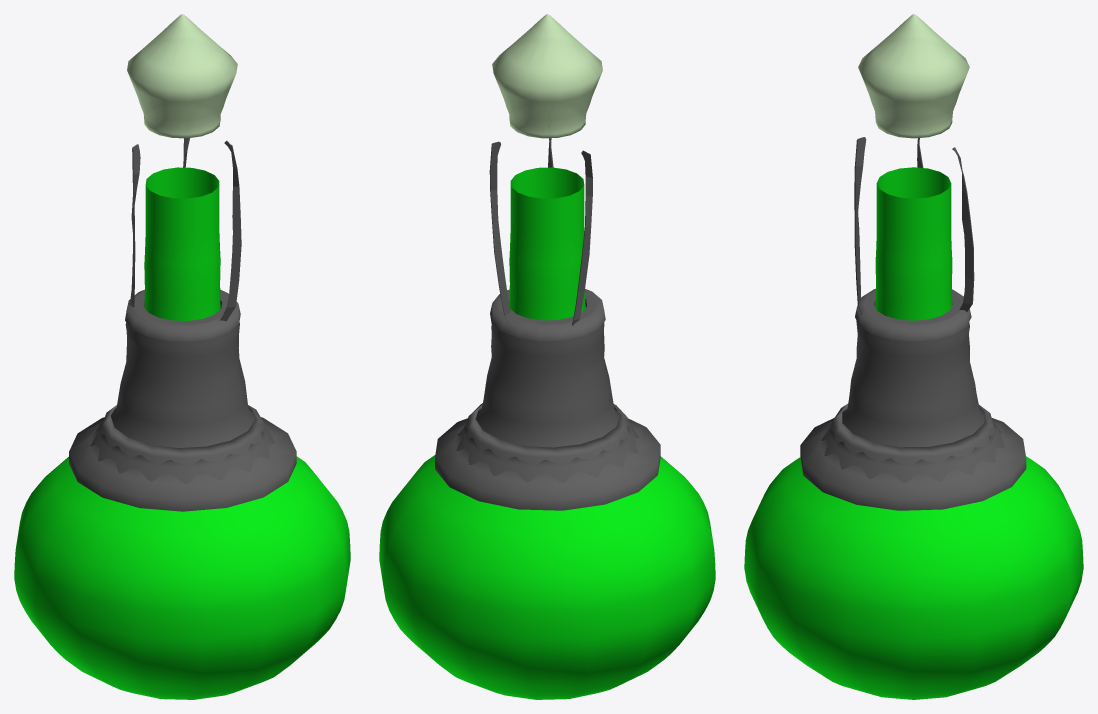
The model's file is potion of leaping.glb.
3 renders of one model, left to right at view 1: azimuth 30°, elevation 25°; view 2: azimuth 150°, elevation 25°; view 3: azimuth 270°, elevation 25°, orthographic.
Visible parts, largest first — view 1: Liquido, RecDeco, Tapa2, DecoFrasc, DecoFrasc.001; view 2: Liquido, RecDeco, Tapa2, DecoFrasc.002, DecoFrasc.001; view 3: Liquido, RecDeco, Tapa2, DecoFrasc.002, DecoFrasc.
Part boxes in pixels (x1,y1,x2,y2): Liquido: (14, 167, 350, 699); RecDeco: (69, 289, 296, 511); Tapa2: (127, 14, 237, 138); DecoFrasc: (219, 140, 241, 321); DecoFrasc.001: (128, 144, 140, 307); Liquido: (379, 167, 715, 699); RecDeco: (435, 289, 660, 510); Tapa2: (492, 14, 602, 138); DecoFrasc.002: (489, 141, 512, 323); DecoFrasc.001: (572, 150, 592, 325); Liquido: (744, 167, 1083, 699); RecDeco: (800, 288, 1026, 510); Tapa2: (858, 14, 969, 138); DecoFrasc.002: (952, 147, 974, 311); DecoFrasc: (854, 137, 866, 314).
Size of what is drawn, in the model's own units: 701 by 1513 by 701.
